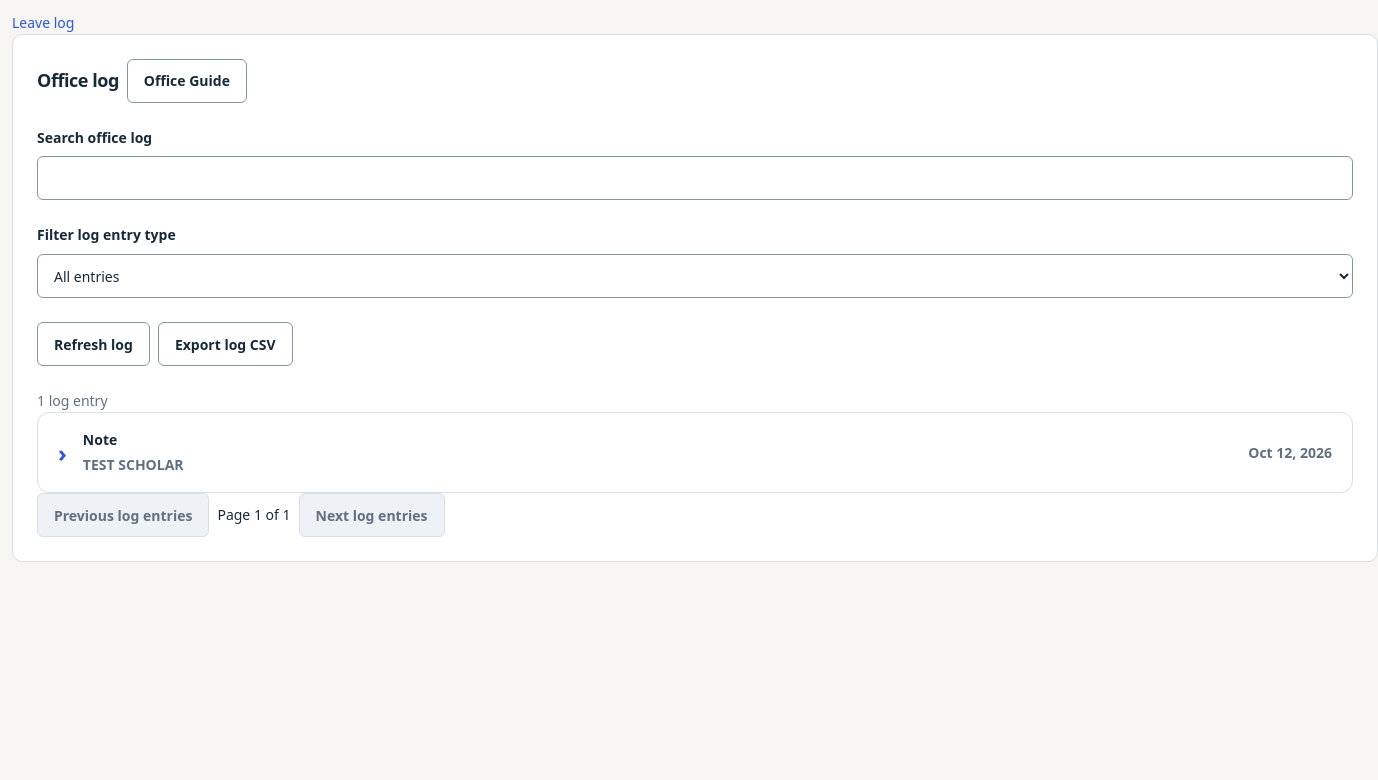
Test case: viewers can read immutable entries without write controls
Click the heading "Note TEST SCHOLAR Oct 12, 2026".
click(100, 439)  # box [83, 430, 1332, 474]
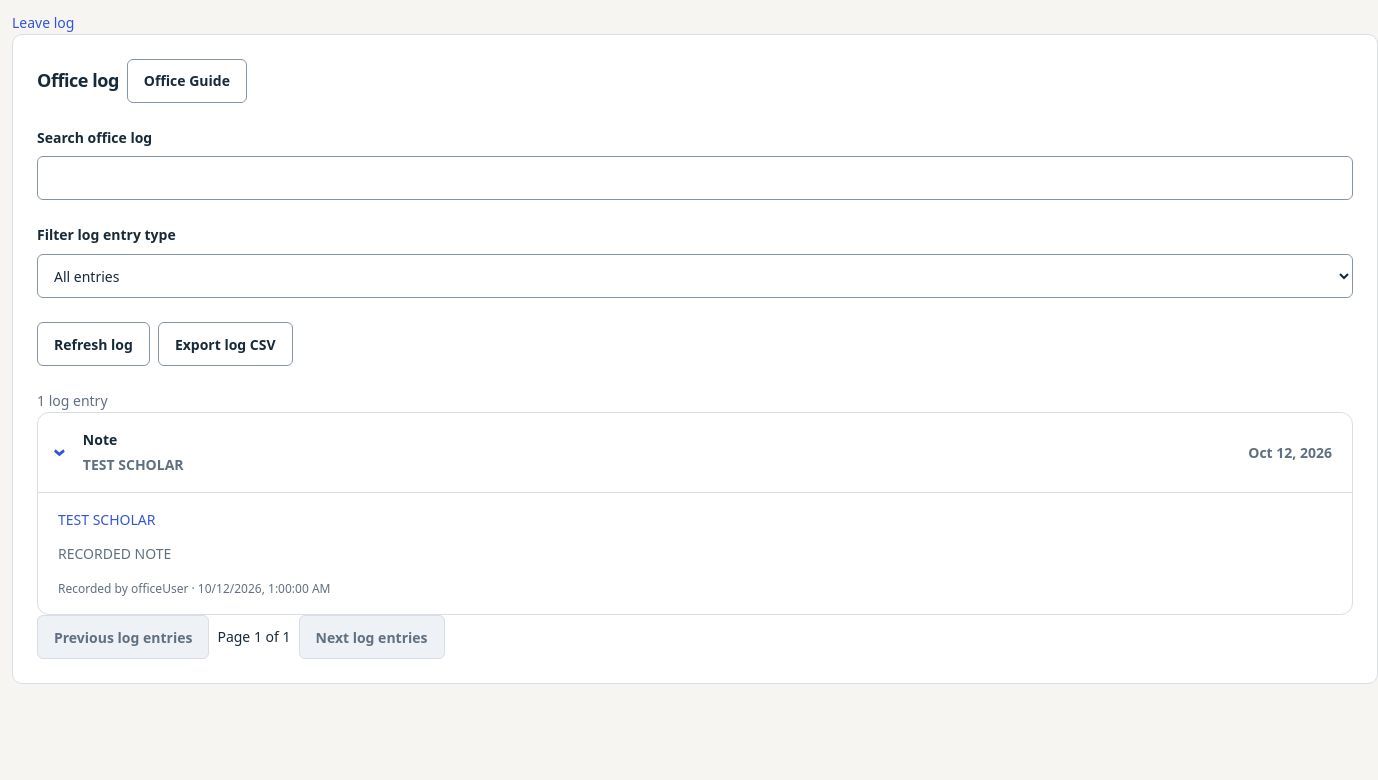
Expected: the text "Recorded by officeUser · 10/12/2026, 1:00:00 AM" is shown, [58, 580, 330, 596]
